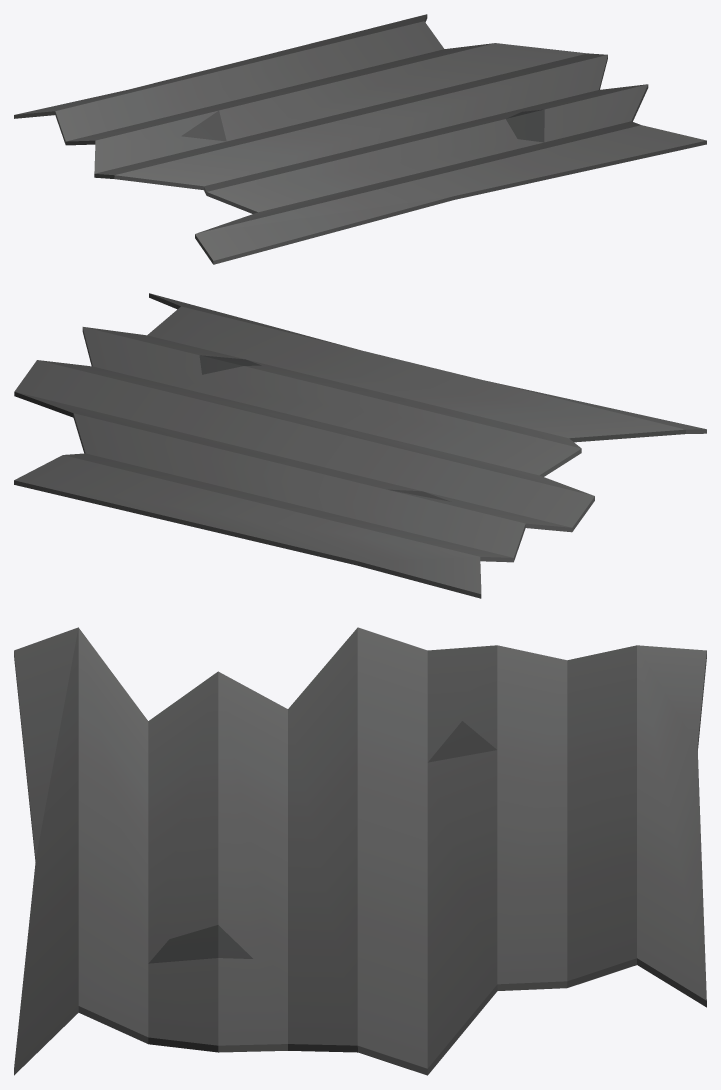
The model's file is SheetMetal_A_2.glb.
The picture shows the model from 3 angles, top to bottom: view 1: azimuth 30°, elevation 25°; view 2: azimuth 150°, elevation 25°; view 3: azimuth 270°, elevation 25°; orthographic projection. The views are drawn at different scales.
Visible parts, largest first — view 1: SheetMetal_A_2; view 2: SheetMetal_A_2; view 3: SheetMetal_A_2.
Boxes of the visible parts, x1,y1,x2,y2 form: SheetMetal_A_2: (14, 14, 706, 264); SheetMetal_A_2: (14, 293, 706, 598); SheetMetal_A_2: (14, 627, 706, 1075).
Bounding box in the file's own units: 1.37 × 0.0458 × 0.9605.
1 material, 1 textured.
